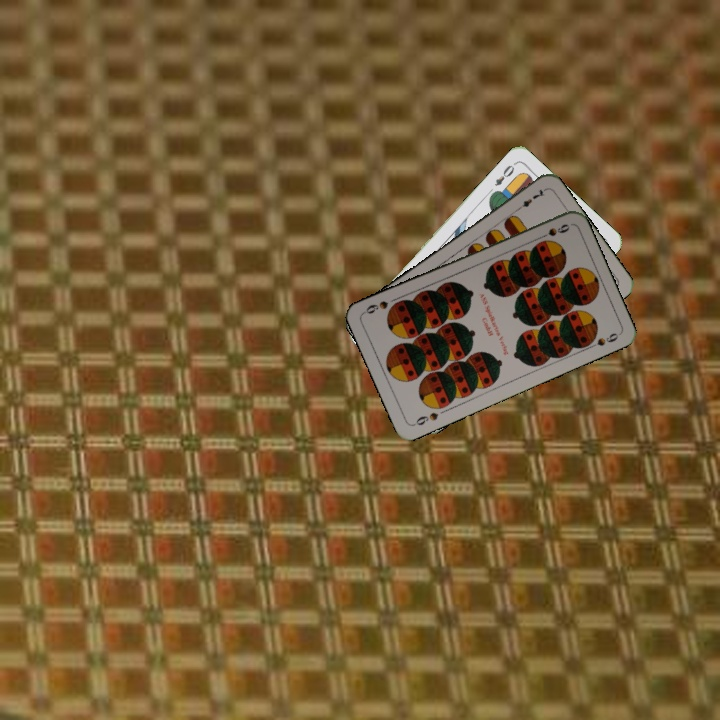E7: (513, 185, 548, 214)
EO: (491, 159, 519, 189)
S9: (533, 220, 572, 242), (409, 408, 441, 428)
